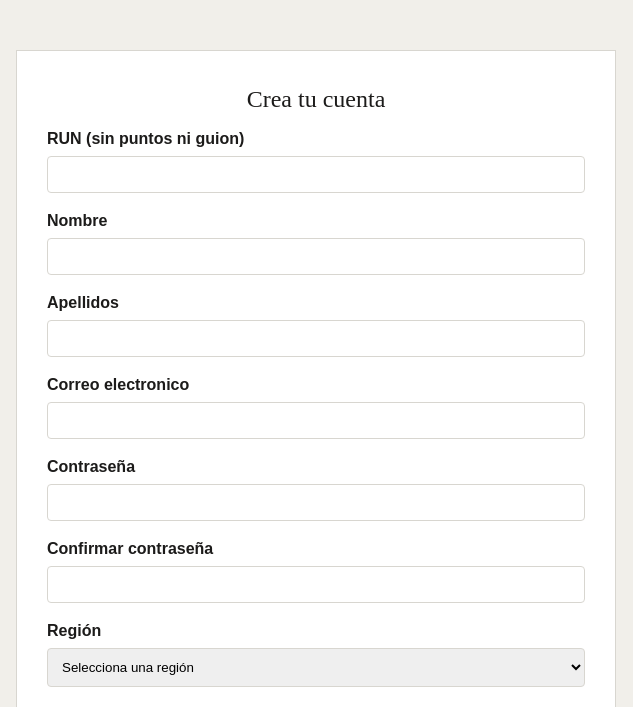
Test: Registro › rechaza un correo no permitido
In the field labelled "Correo electronico": (316, 420) 47,402 -> 585,439, type "ana@hotmail.com"
(page scrolled)
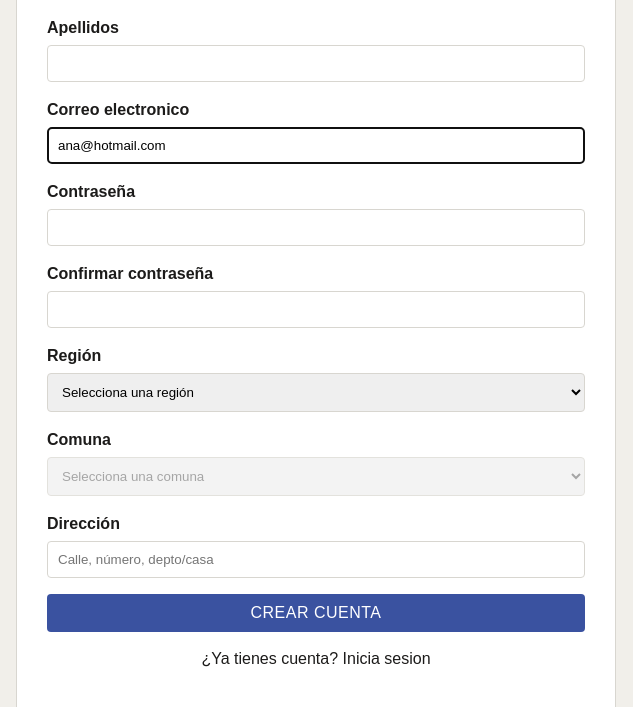
Click the button "Crear cuenta": (316, 613) 47,594 -> 585,632
(page scrolled)
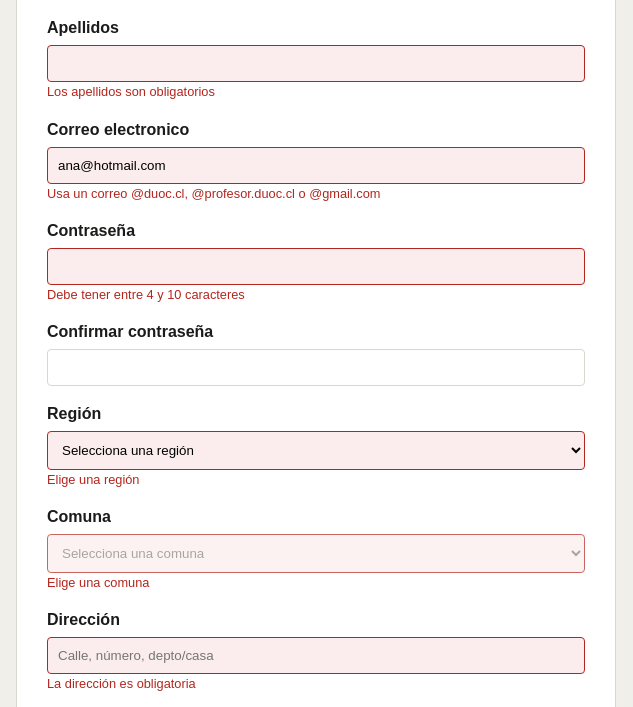
Expected: the text "Usa un correo @duoc.cl, @profesor.duoc.cl o @gmail.com" is shown, 47,186 -> 380,201
